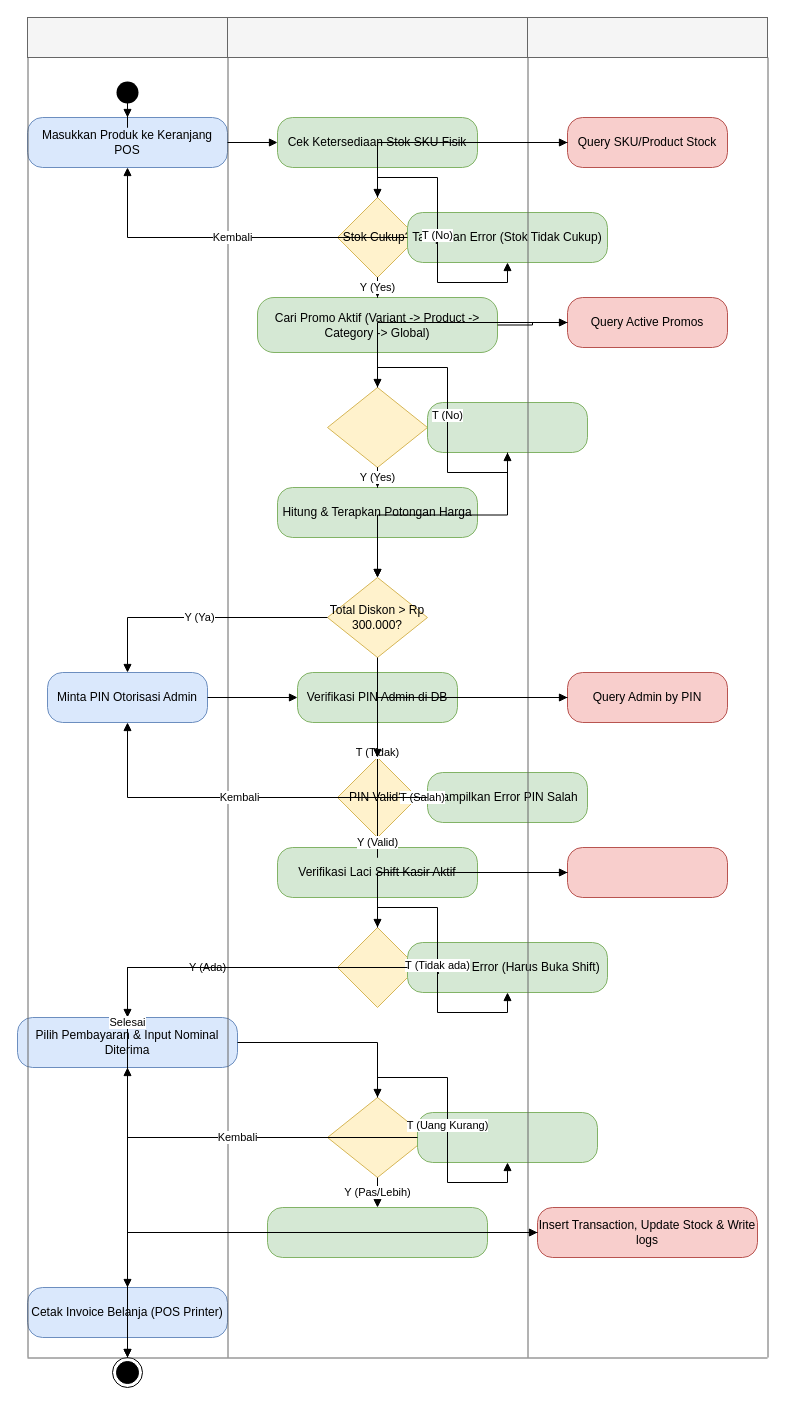
The diagram is 786 pixels wide and 1405 high, and some of its shapes have lost their labels. The box of each missing label's shape, as (x1, y1, x2, y2) in pixels:
Database: (526, 16, 768, 58)
Gunakan Harga Normal: (426, 402, 588, 452)
Kasir: (26, 16, 228, 58)
Memenuhi minPurchase?: (326, 386, 428, 468)
Nominal >= Total Belanja?: (326, 1096, 428, 1178)
Query Open Shift by Kasir ID: (566, 846, 728, 898)
Shift Aktif?: (336, 926, 418, 1008)
Simpan Transaksi, Potong Stok & Buat Logs: (266, 1206, 488, 1258)
Sistem POS (POS/Backend): (226, 16, 528, 58)
Tampilkan Error (Uang Kurang): (416, 1112, 598, 1162)
